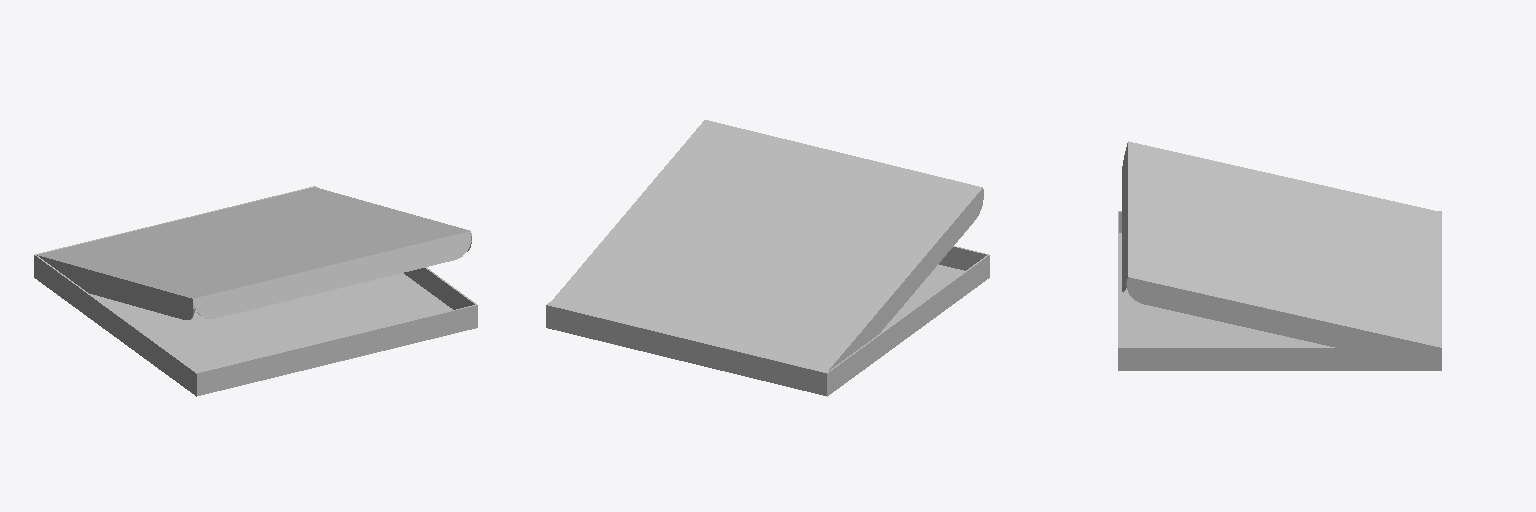
Rendered from pizzabox.obj.
The picture shows the model from 3 angles: view 1: azimuth 30°, elevation 25°; view 2: azimuth 150°, elevation 25°; view 3: azimuth 270°, elevation 25°; orthographic projection.
Parts seen in each view (by area): view 1: pizzabox_Plane; view 2: pizzabox_Plane; view 3: pizzabox_Plane.
Part boxes in pixels (x1,y1,x2,y2): pizzabox_Plane: (34, 186, 477, 396); pizzabox_Plane: (546, 120, 989, 396); pizzabox_Plane: (1118, 141, 1441, 370).
Bounding box in the file's own units: 4 × 1.27 × 4.